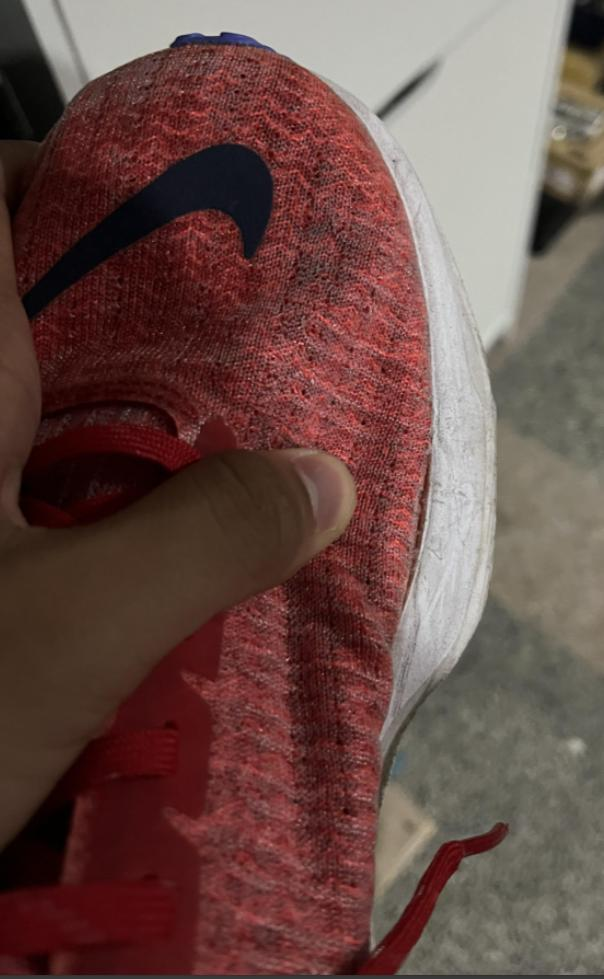bonding: (391, 430, 456, 618)
